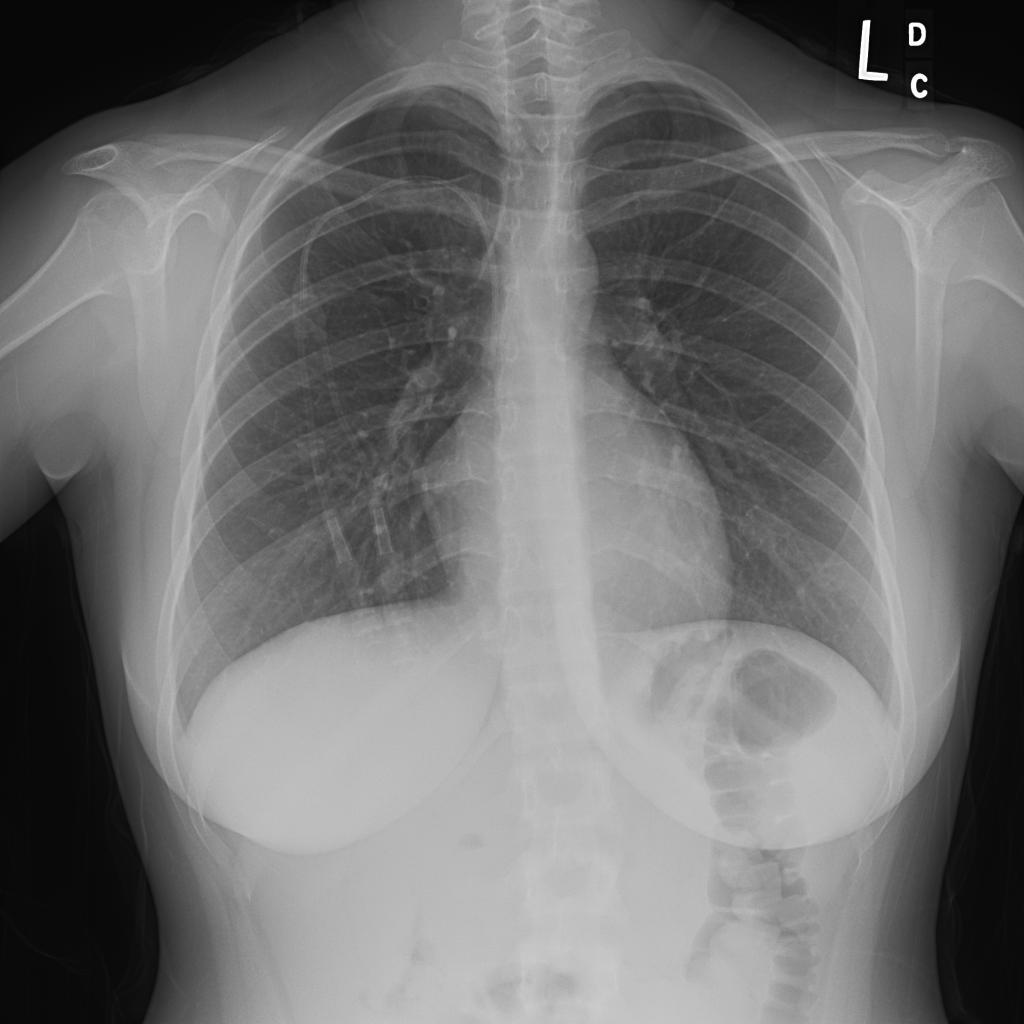Nodule: (395, 121, 424, 147), (234, 276, 258, 297)
